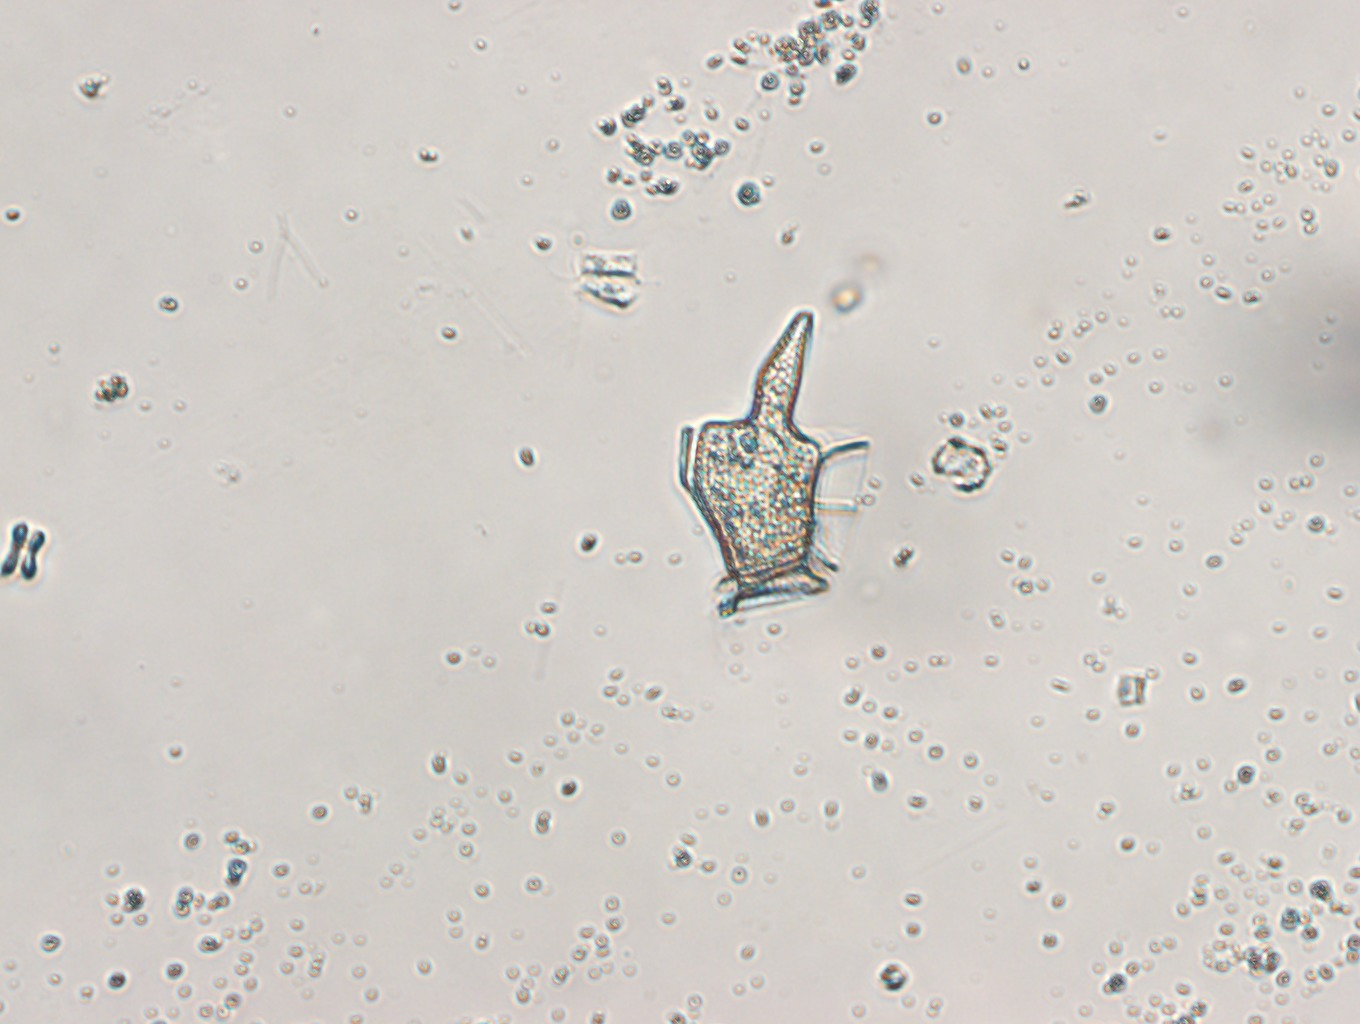dinophysis caudata: (672, 300, 872, 625)
